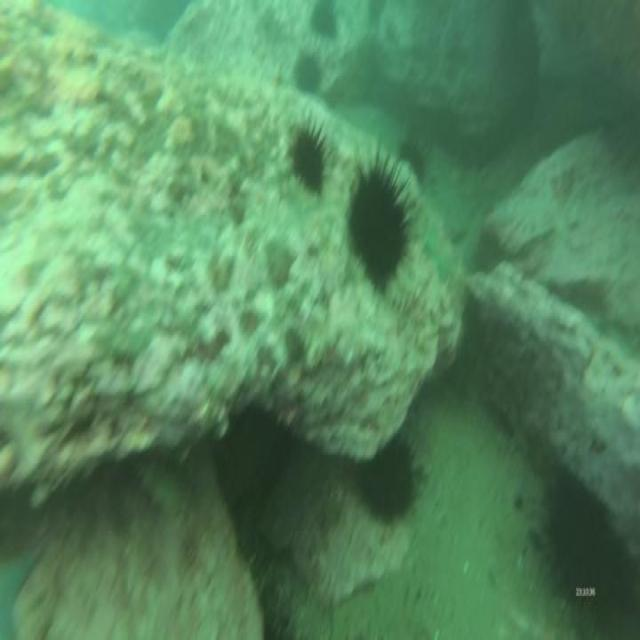echinus: (534, 450, 639, 640), (342, 126, 419, 294), (353, 420, 427, 536), (287, 104, 335, 198), (395, 116, 433, 192), (291, 36, 328, 100), (303, 0, 347, 44)
